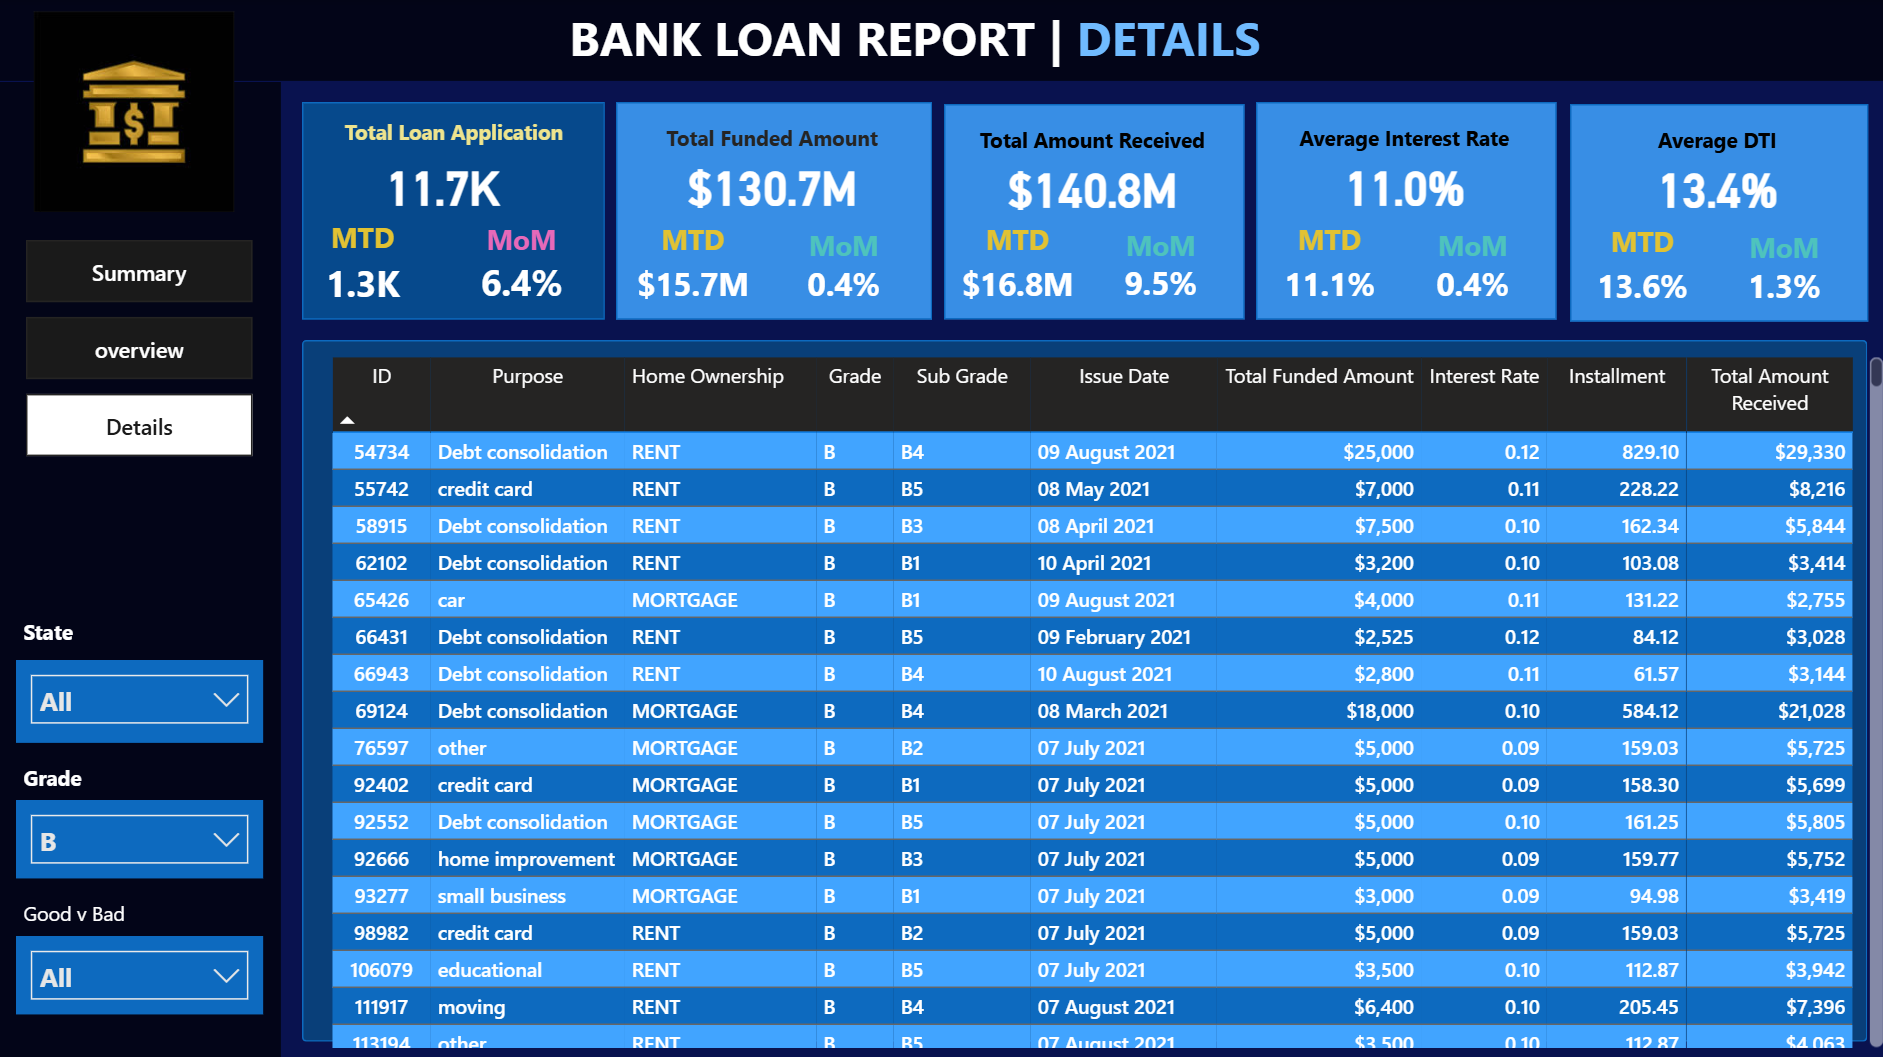

The dashboard page shown, as its layout file describes it:
{"tool":"powerbi","page":{"name":"Details","canvas":[1280,720],"ordinal":2},"visuals":[{"type":"shape","box":[0,56.1,192.6,664.3],"z":0},{"type":"shape","box":[0,0,1280,56.1],"z":1000},{"type":"textbox","box":[381.8,0,555.9,55.4],"z":2000},{"type":"shape","box":[206.3,69.8,204.7,147.1],"z":3000},{"type":"group","id":"g1","title":"Group 1","box":[192.6,75.5,216.9,139.8],"z":4000},{"type":"card","fields":{"Values":["Bank_loan_data.TOTAL LOAN APPLICATION"]},"box":[192.6,104.6,216.9,42.5],"z":4000,"group":"g1"},{"type":"group","id":"g2","title":"Group 2","box":[417.3,69.8,215.4,147.1],"z":5000},{"type":"shape","box":[418.9,69.8,213.7,147.1],"z":5000,"group":"g2"},{"type":"shape","box":[851.7,69.8,203.2,147.1],"z":5000,"group":"g4"},{"type":"shape","box":[640.6,71.3,203.2,145.6],"z":5000,"group":"g5"},{"type":"shape","box":[1063.5,72.1,201.7,147.1],"z":5000,"group":"g6"},{"type":"textbox","box":[210.7,75.5,197.2,36.4],"z":5000,"group":"g1"},{"type":"group","id":"g3","title":"Group 2","box":[639,71.3,204.7,145.6],"z":6000},{"type":"card","fields":{"Values":["Bank_loan_data.Total Funded Amount"]},"box":[417.3,98.6,213.9,56.1],"z":6000,"group":"g2"},{"type":"card","fields":{"Values":["Bank_loan_data.Avg Intrest Rate"]},"box":[850.1,98.6,203.4,56.1],"z":6000,"group":"g4"},{"type":"card","fields":{"Values":["Bank_loan_data.Total Amount Received"]},"box":[639,99.8,203.4,55.5],"z":6000,"group":"g5"},{"type":"card","fields":{"Values":["Bank_loan_data.Average DTI"]},"box":[1061.9,100.9,201.9,56.1],"z":6000,"group":"g6"},{"type":"card","title":"MTD","fields":{"Values":["Bank_loan_data.MTD Loan"]},"box":[194.1,148.6,106.2,66.7],"z":6000,"group":"g1"},{"type":"group","id":"g4","title":"Group 3","box":[850.1,69.8,204.7,147.1],"z":6002,"group":"g7"},{"type":"group","id":"g5","title":"Group 3","box":[639,71.3,204.7,145.6],"z":6002,"group":"g3"},{"type":"group","id":"g6","title":"Group 3","box":[1061.9,72.1,203.2,147.1],"z":6002,"group":"g8"},{"type":"group","id":"g7","title":"Group 2","box":[850.1,69.8,204.7,147.1],"z":7000},{"type":"textbox","box":[418,79.3,213.7,35.2],"z":7000,"group":"g2"},{"type":"textbox","box":[850.7,79.3,203.2,35.2],"z":7000,"group":"g4"},{"type":"textbox","box":[639.6,80.7,203.2,34.8],"z":7000,"group":"g5"},{"type":"textbox","box":[1062.5,81.6,201.7,35.2],"z":7000,"group":"g6"},{"type":"card","title":"MoM","fields":{"Values":["Bank_loan_data.MoM Loan Application"]},"box":[301.8,150.1,104.6,62.2],"z":7000,"group":"g1"},{"type":"group","id":"g8","title":"Group 2","box":[1061.9,72.1,203.2,147.1],"z":8000},{"type":"card","title":"MTD","fields":{"Values":["Bank_loan_data.MTD Funded Amount"]},"box":[423.4,150.2,95.5,65.2],"z":8000,"group":"g2"},{"type":"card","title":"MTD","fields":{"Values":["Bank_loan_data.MTD Amount Received"]},"box":[645.1,150.2,91,65.2],"z":8000,"group":"g5"},{"type":"card","title":"MTD","fields":{"Values":["Bank_loan_data.MTD Average Intrest"]},"box":[856.2,150.2,91,65.2],"z":8000,"group":"g4"},{"type":"card","title":"MTD","fields":{"Values":["Bank_loan_data.MTD Avg DTI"]},"box":[1068,152.5,89.5,65.2],"z":8000,"group":"g6"},{"type":"card","title":"MoM","fields":{"Values":["Bank_loan_data.MoM Funded Amount"]},"box":[530.7,153.2,83.3,56.1],"z":9000,"group":"g2"},{"type":"card","title":"MoM","fields":{"Values":["Bank_loan_data.MoM Average Intres"]},"box":[957.9,153.2,79.2,56.1],"z":9000,"group":"g4"},{"type":"card","title":"MoM","fields":{"Values":["Bank_loan_data.MoM Amount Received"]},"box":[746.8,153.9,79.2,55.5],"z":9000,"group":"g5"},{"type":"card","title":"MoM","fields":{"Values":["Bank_loan_data.MoM Avg DTI"]},"box":[1168.9,155.5,78.6,56.1],"z":9000,"group":"g6"},{"type":"slicer","fields":{"Values":["Bank_loan_data.Good v Bad Loan"]},"box":[13.6,634.2,166.8,52.8],"z":9000},{"type":"slicer","fields":{"Values":["Bank_loan_data.address_state"]},"box":[13.6,447.4,166.8,56.1],"z":10000,"group":"g9"},{"type":"textbox","box":[13.6,603.6,179,37.9],"z":10000},{"type":"textbox","box":[13.6,414,138,54.6],"z":11000,"group":"g9"},{"type":"slicer","fields":{"Values":["Bank_loan_data.grade"]},"box":[13.6,541.4,166.8,53.1],"z":12000},{"type":"textbox","box":[13.6,512.6,110.7,28.8],"z":13000},{"type":"group","id":"g9","title":"Group 4","box":[13.6,414,166.8,89.5],"z":14000},{"type":"shape","box":[206.7,231,1057.7,474.1],"z":16000},{"type":"tableEx","fields":{"Values":["Bank_loan_data.id","Bank_loan_data.purpose","Bank_loan_data.home_ownership","Bank_loan_data.grade","Bank_loan_data.sub_grade","Bank_loan_data.issue_date","Bank_loan_data.Total Funded Amount","Sum(Bank_loan_data.int_rate)","Sum(Bank_loan_data.installment)","Bank_loan_data.Total Amount Received"]},"box":[221.4,238.1,1058.6,476.2],"z":17000},{"type":"pageNavigator","box":[19.7,163.8,153.2,147.1],"z":17001},{"type":"image","box":[0,4.5,186.5,145.6],"z":17002}]}

Visuals, with their boxes in screenshot pixels (x1, y1, x2, y2), scaled from the page's 1280x720 canvas onto the 1883x1057 screenshot:
shape: [0, 82, 283, 1056]
shape: [0, 0, 1882, 82]
textbox: [562, 0, 1379, 81]
shape: [303, 102, 605, 318]
"Group 1" group: [283, 111, 602, 316]
card - Bank_loan_data.TOTAL LOAN APPLICATION: [283, 154, 602, 216]
"Group 2" group: [614, 102, 931, 318]
shape: [616, 102, 931, 318]
shape: [1253, 102, 1552, 318]
shape: [942, 105, 1241, 318]
shape: [1565, 106, 1861, 322]
textbox: [310, 111, 600, 164]
"Group 2" group: [940, 105, 1241, 318]
card - Bank_loan_data.Total Funded Amount: [614, 145, 929, 227]
card - Bank_loan_data.Avg Intrest Rate: [1251, 145, 1550, 227]
card - Bank_loan_data.Total Amount Received: [940, 147, 1239, 228]
card - Bank_loan_data.Average DTI: [1562, 148, 1859, 230]
"MTD" card: [286, 218, 442, 316]
"Group 3" group: [1251, 102, 1552, 318]
"Group 3" group: [940, 105, 1241, 318]
"Group 3" group: [1562, 106, 1861, 322]
"Group 2" group: [1251, 102, 1552, 318]
textbox: [615, 116, 929, 168]
textbox: [1251, 116, 1550, 168]
textbox: [941, 118, 1240, 170]
textbox: [1563, 120, 1860, 171]
"MoM" card: [444, 220, 598, 312]
"Group 2" group: [1562, 106, 1861, 322]
"MTD" card: [623, 221, 763, 316]
"MTD" card: [949, 221, 1083, 316]
"MTD" card: [1260, 221, 1393, 316]
"MTD" card: [1571, 224, 1703, 320]
"MoM" card: [781, 225, 903, 307]
"MoM" card: [1409, 225, 1526, 307]
"MoM" card: [1099, 226, 1215, 307]
"MoM" card: [1720, 228, 1835, 311]
slicer - Bank_loan_data.Good v Bad Loan: [20, 931, 265, 1009]
slicer - Bank_loan_data.address_state: [20, 657, 265, 739]
textbox: [20, 886, 283, 942]
textbox: [20, 608, 223, 688]
slicer - Bank_loan_data.grade: [20, 795, 265, 873]
textbox: [20, 753, 183, 795]
"Group 4" group: [20, 608, 265, 739]
shape: [304, 339, 1860, 1035]
tableEx - Bank_loan_data.id x Bank_loan_data.purpose: [326, 350, 1882, 1049]
pageNavigator: [29, 240, 254, 456]
image: [0, 7, 274, 220]
